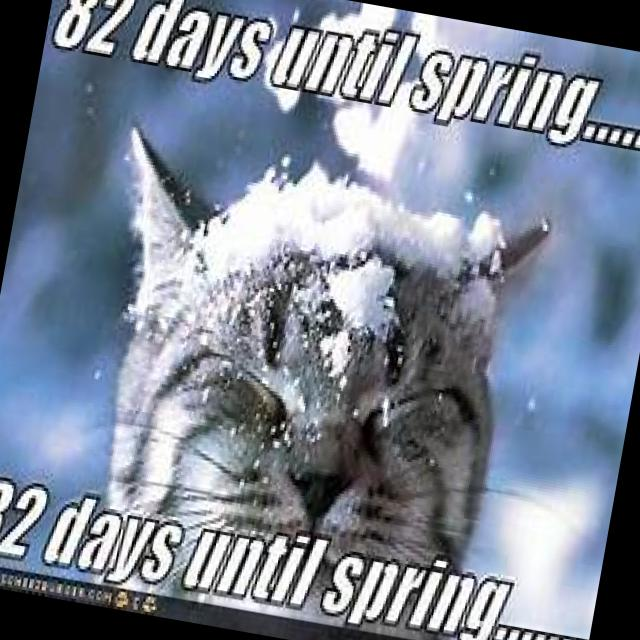cat: (50, 130, 554, 640)
